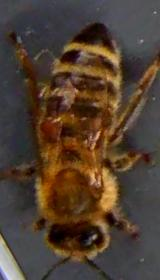varroa_mite: (36, 114, 60, 138)
